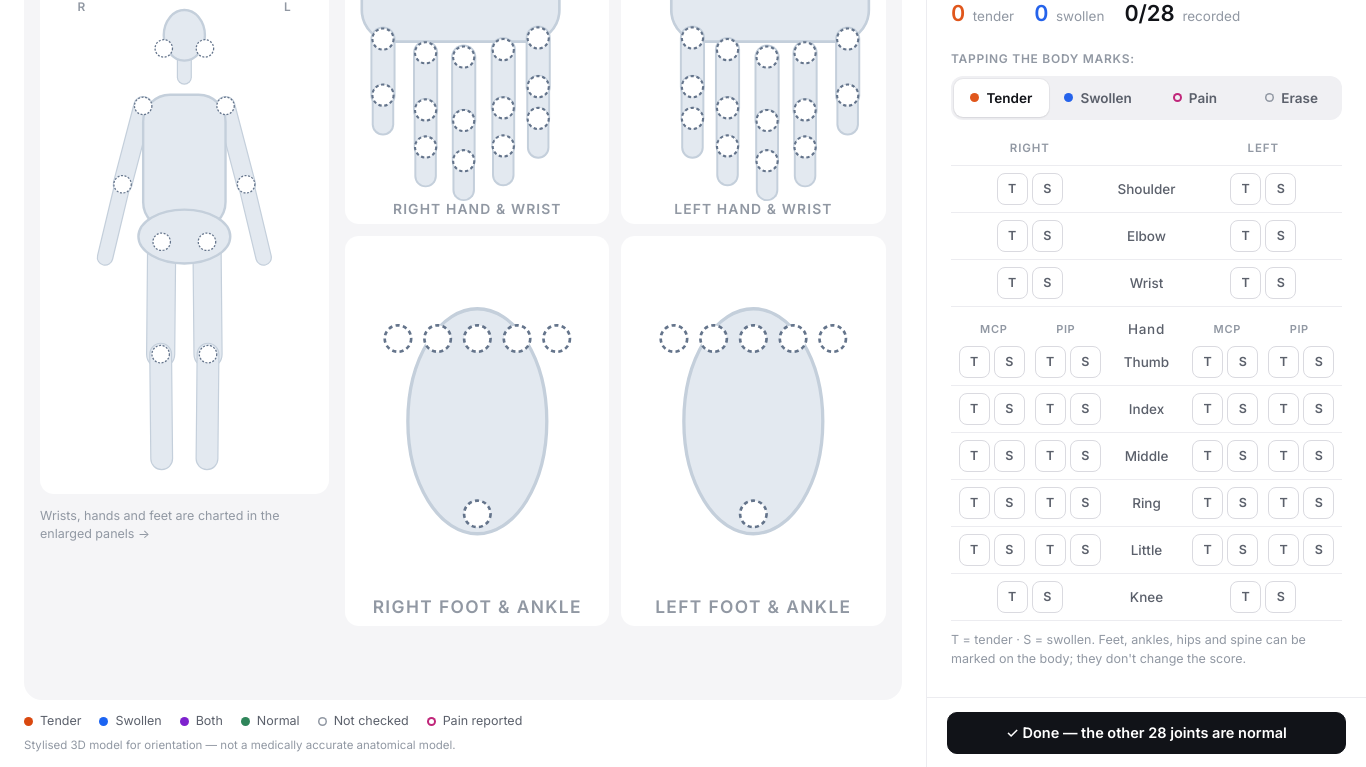
Scenario: quick joint examination: tap only the affected joints › Done is undoable
(page scrolled)
Click the button with test id "joints-done".
click(1146, 733)  # box [947,712,1346,754]
(page scrolled)
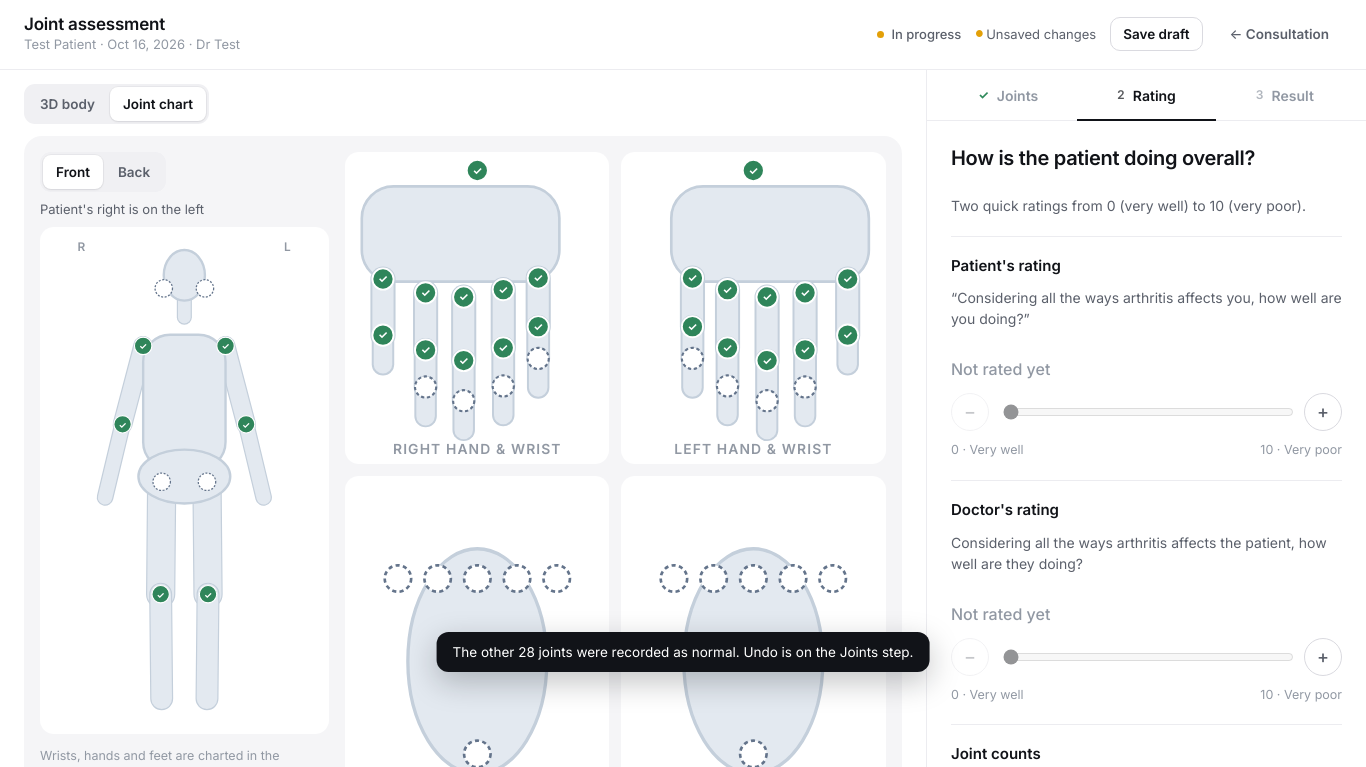
Click the button "✓ Joints".
click(1008, 95)  # box [939,70,1077,121]
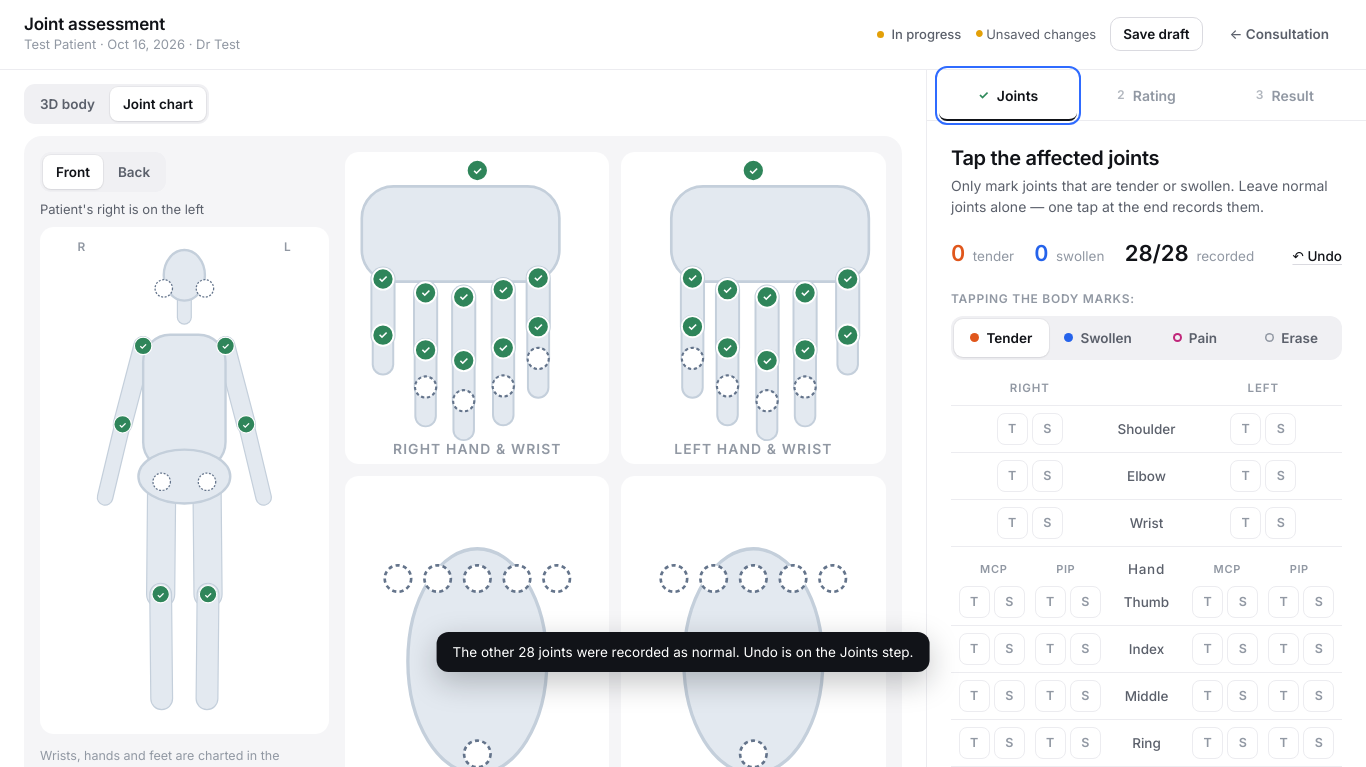
Result: the text with test id "progress-count" reads "28/28" at [1124,240,1189,266]
Click the button "↶ Undo".
click(1317, 256)  # box [1292,244,1342,268]
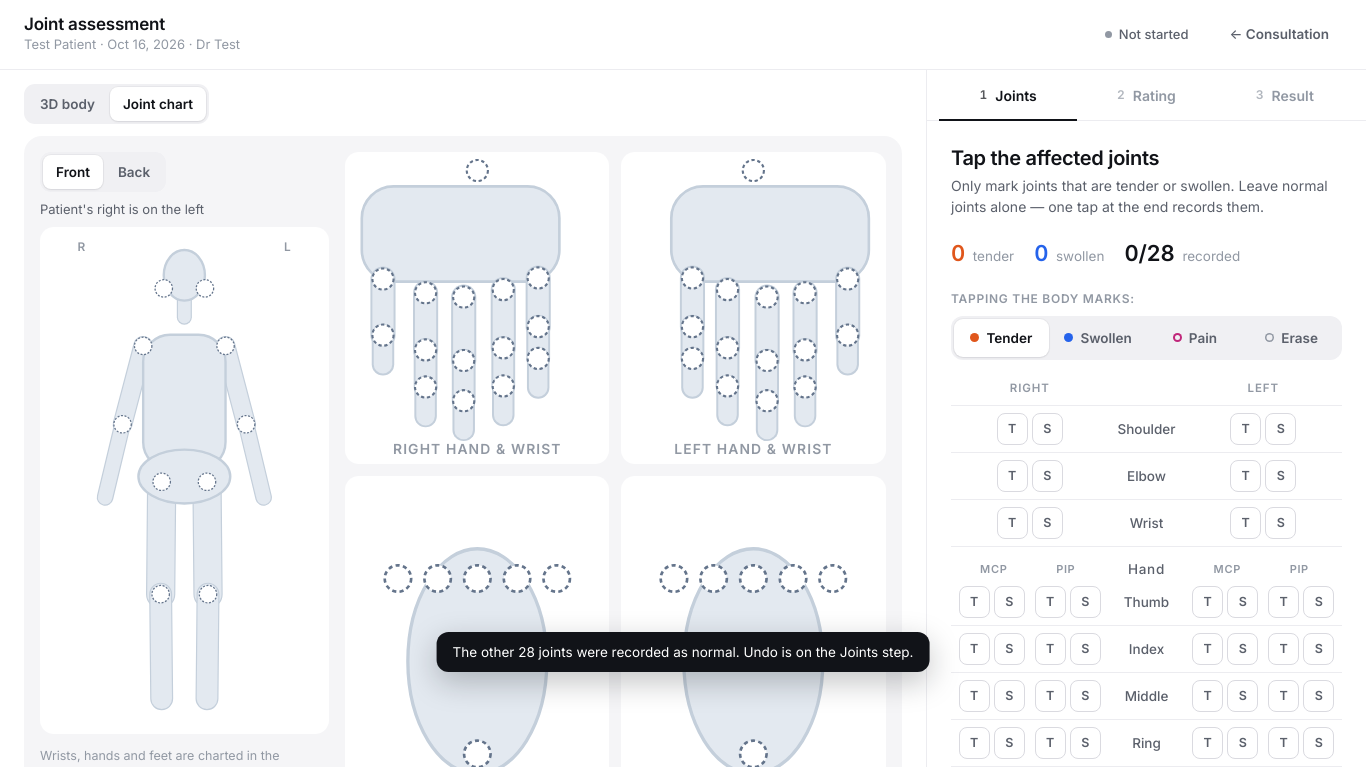
Result: the text with test id "progress-count" reads "0/28" at [1124,240,1175,266]
